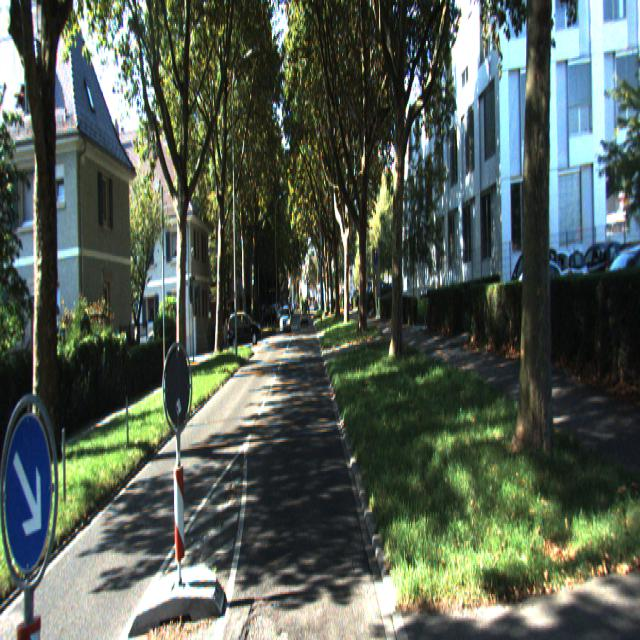Car: (228, 312, 262, 352), (279, 309, 292, 336)
